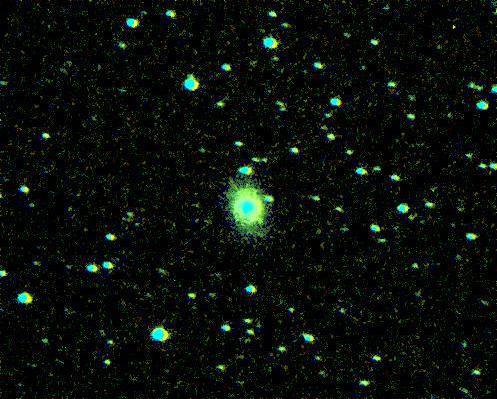star: (246, 202, 276, 232)
